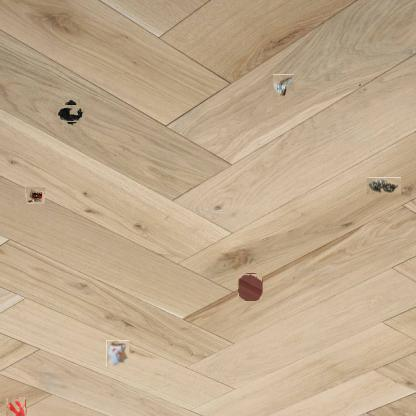dirty: (105, 341, 130, 366), (367, 177, 401, 194), (60, 101, 82, 125), (272, 75, 295, 97), (26, 186, 46, 204)
liquid: (238, 273, 262, 301), (6, 397, 25, 416)
